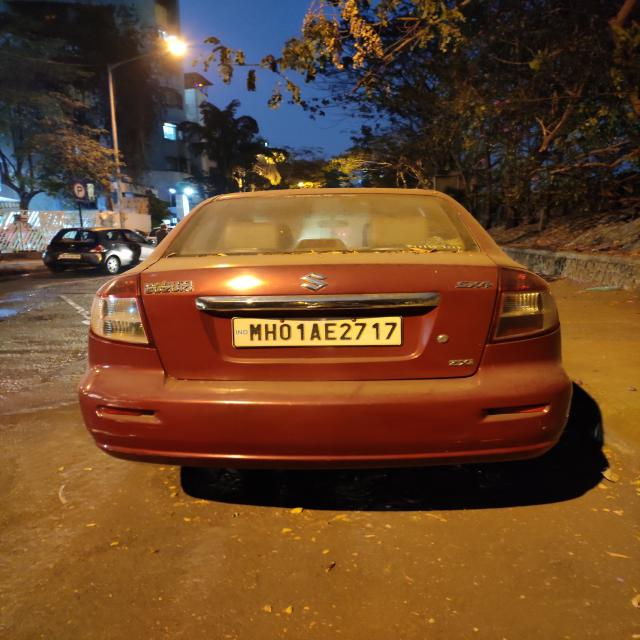Number-Plate: (235, 314, 398, 346)
